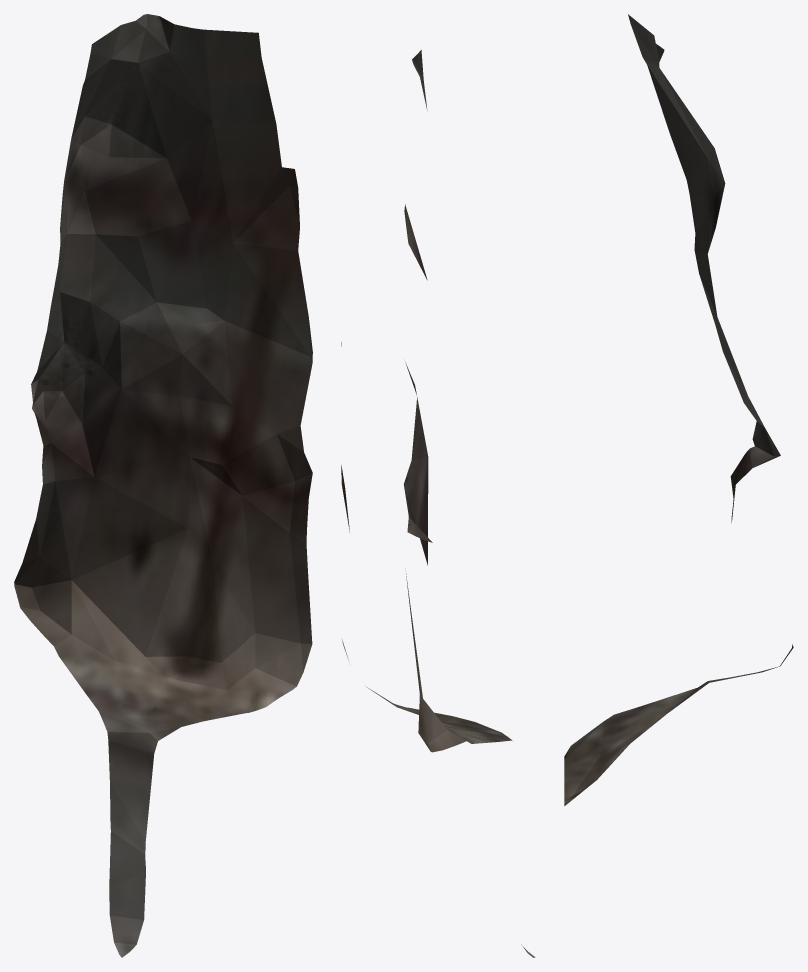
The picture shows the model from 3 angles, left to right: view 1: azimuth 30°, elevation 25°; view 2: azimuth 150°, elevation 25°; view 3: azimuth 270°, elevation 25°; orthographic projection. The views are drawn at different scales.
Size of the model in its own units: 0.1786 by 0.7969 by 0.1754.
1 material, 1 textured.
